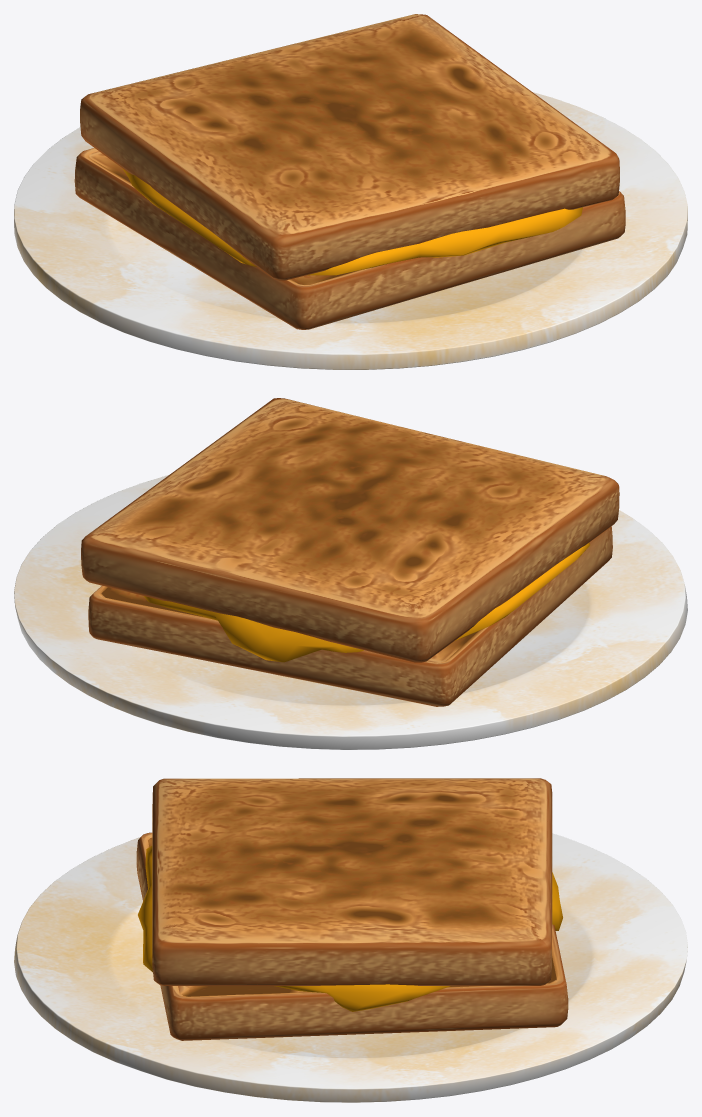
3 views of the same model, one above another, from view 1: azimuth 30°, elevation 25°; view 2: azimuth 150°, elevation 25°; view 3: azimuth 270°, elevation 25° (orthographic).
Parts seen in each view (by area): view 1: low_BreadTop, low_Dish, low_BreadBottom, low_Cheese; view 2: low_BreadTop, low_Dish, low_BreadBottom, low_Cheese; view 3: low_BreadTop, low_Dish, low_BreadBottom, low_Cheese.
Part boxes in pixels (x1,y1,x2,y2): low_BreadTop: [80, 14, 619, 280]; low_Dish: [14, 92, 687, 369]; low_BreadBottom: [74, 148, 625, 329]; low_Cheese: [122, 168, 582, 275]; low_BreadTop: [81, 398, 619, 662]; low_Dish: [14, 474, 687, 749]; low_BreadBottom: [88, 526, 612, 706]; low_Cheese: [143, 542, 589, 662]; low_BreadTop: [152, 778, 552, 985]; low_Dish: [14, 833, 687, 1102]; low_BreadBottom: [136, 832, 568, 1040]; low_Cheese: [138, 846, 562, 1011].
Size of the model in its own units: 0.3043 by 0.0651 by 0.3048.
Materials: 3 (3 with a texture image).
